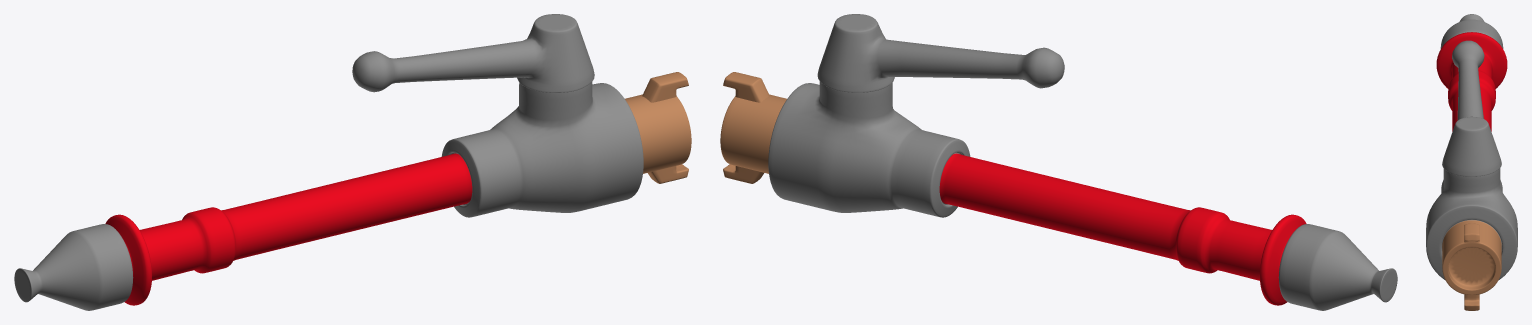
Rendered from WasserDuese.fbx.
3 views of the same model, side by side, from view 1: azimuth 30°, elevation 25°; view 2: azimuth 150°, elevation 25°; view 3: azimuth 270°, elevation 25° (orthographic). The views are drawn at different scales.
Visible parts, largest first — view 1: Duese, Hebel; view 2: Duese, Hebel; view 3: Duese, Hebel.
Part boxes in pixels (<box>): Duese: <box>14,72,691,310</box>; Hebel: <box>352,14,594,92</box>; Duese: <box>720,72,1397,310</box>; Hebel: <box>817,14,1064,92</box>; Duese: <box>1426,14,1517,310</box>; Hebel: <box>1442,40,1501,176</box>.
Size of the model in its own units: 141 by 41.22 by 22.06.
